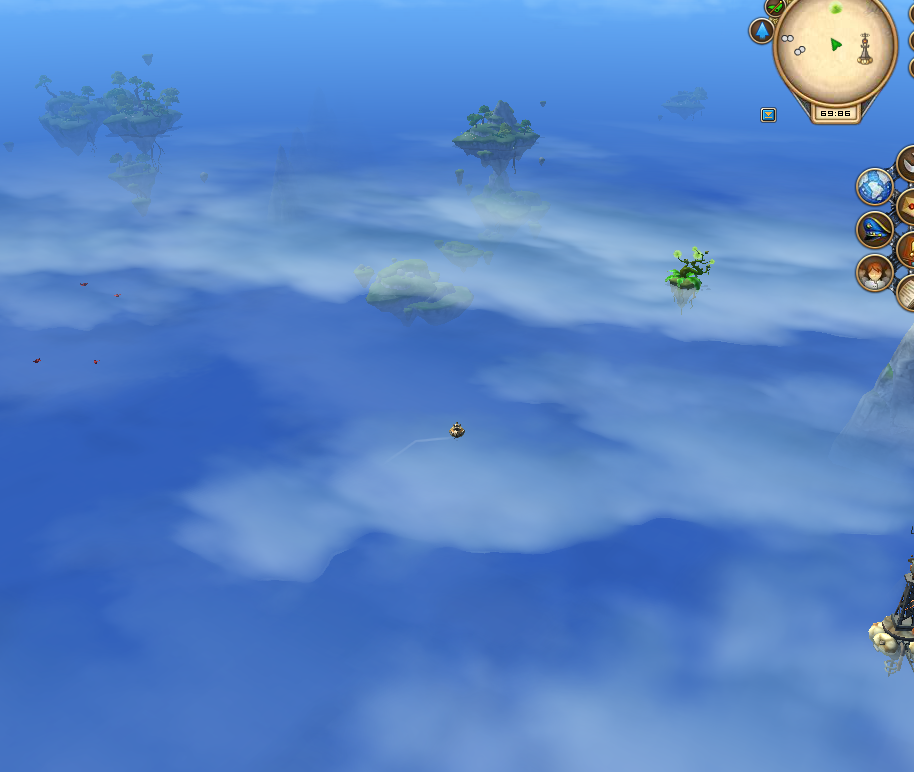dandelion-full: (660, 239, 719, 303)
